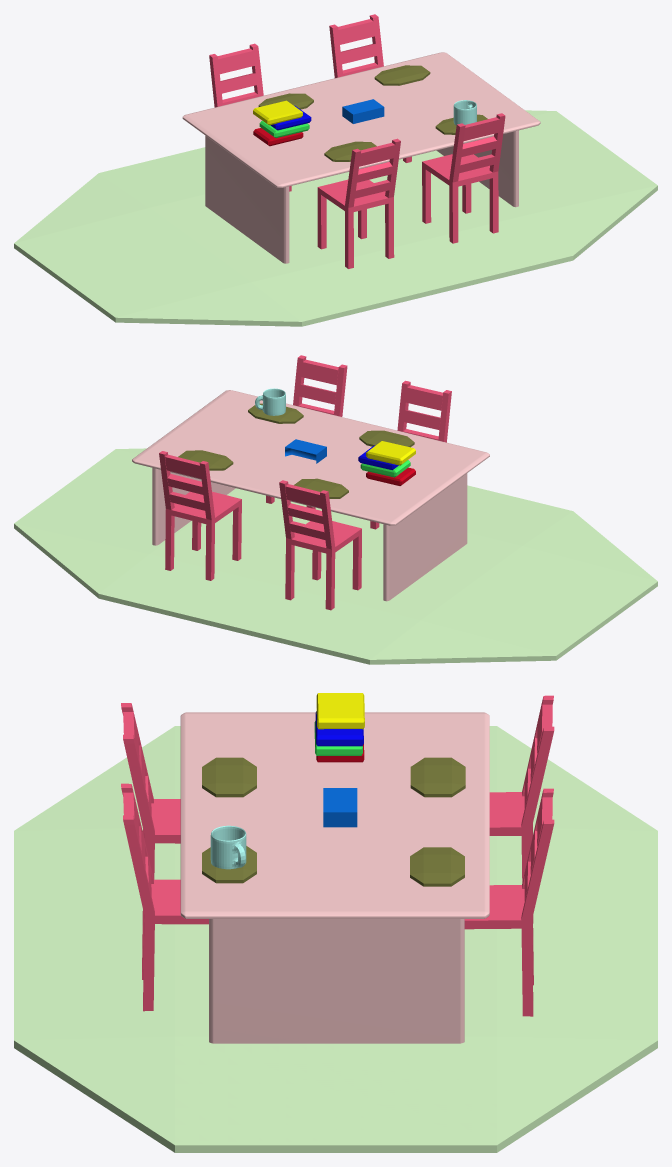
File: dining table.fbx
The picture shows the model from 3 angles, top to bottom: view 1: azimuth 30°, elevation 25°; view 2: azimuth 150°, elevation 25°; view 3: azimuth 270°, elevation 25°; orthographic projection. The views are drawn at different scales.
Parts seen in each view (by area): view 1: pCube31, pCube43, Chair3:pCube1, Chair2:pCube1, Chair1:pCube1, Chair:pCube1, pasted__pasted__pCube31 (×2), pCube42, pCube32, pasted__pCube31, pCylinder3; view 2: pCube31, pCube43, Chair1:pCube1, Chair:pCube1, Chair3:pCube1, Chair2:pCube1, pasted__pasted__pCube31 (×3), pCube42, pCylinder3, pCube32, pasted__pCube31, pCube29; view 3: pCube31, pCube43, pasted__pasted__pCube31 (×3), Chair1:pCube1, Chair3:pCube1, Chair:pCube1, Chair2:pCube1, pasted__pCube31, pCube42, pCylinder3, pCube32, pCube41.
Boxes of the visible parts, bbox=[...] form: pCube31: bbox=[14, 110, 657, 326]; pCube43: bbox=[182, 52, 540, 263]; Chair3:pCube1: bbox=[422, 113, 505, 243]; Chair2:pCube1: bbox=[317, 138, 400, 268]; Chair1:pCube1: bbox=[329, 14, 411, 162]; Chair:pCube1: bbox=[209, 43, 291, 191]; pasted__pasted__pCube31 (×2): bbox=[258, 65, 430, 109]; pCube42: bbox=[253, 100, 302, 125]; pCube32: bbox=[342, 99, 384, 123]; pasted__pCube31: bbox=[324, 141, 376, 161]; pCylinder3: bbox=[453, 100, 476, 125]; pCube31: bbox=[14, 448, 657, 664]; pCube43: bbox=[132, 390, 489, 601]; Chair1:pCube1: bbox=[159, 451, 241, 580]; Chair:pCube1: bbox=[279, 480, 361, 610]; Chair3:pCube1: bbox=[266, 355, 347, 509]; Chair2:pCube1: bbox=[370, 380, 451, 529]; pasted__pasted__pCube31 (×3): bbox=[178, 403, 348, 498]; pCube42: bbox=[366, 441, 415, 465]; pCylinder3: bbox=[255, 388, 285, 415]; pCube32: bbox=[285, 439, 326, 463]; pasted__pCube31: bbox=[359, 430, 414, 447]; pCube29: bbox=[366, 467, 415, 485]; pCube31: bbox=[14, 726, 657, 1152]; pCube43: bbox=[180, 712, 489, 1043]; pasted__pasted__pCube31 (×3): bbox=[202, 757, 465, 886]; Chair1:pCube1: bbox=[464, 788, 554, 1016]; Chair3:pCube1: bbox=[121, 783, 208, 1011]; Chair:pCube1: bbox=[489, 695, 554, 923]; Chair2:pCube1: bbox=[121, 703, 180, 879]; pasted__pCube31: bbox=[202, 757, 256, 797]; pCube42: bbox=[316, 693, 364, 729]; pCylinder3: bbox=[210, 825, 246, 869]; pCube32: bbox=[323, 788, 357, 827]; pCube41: bbox=[315, 711, 363, 746].
Size of the model in its own units: 29.4 by 6.77 by 19.09.
